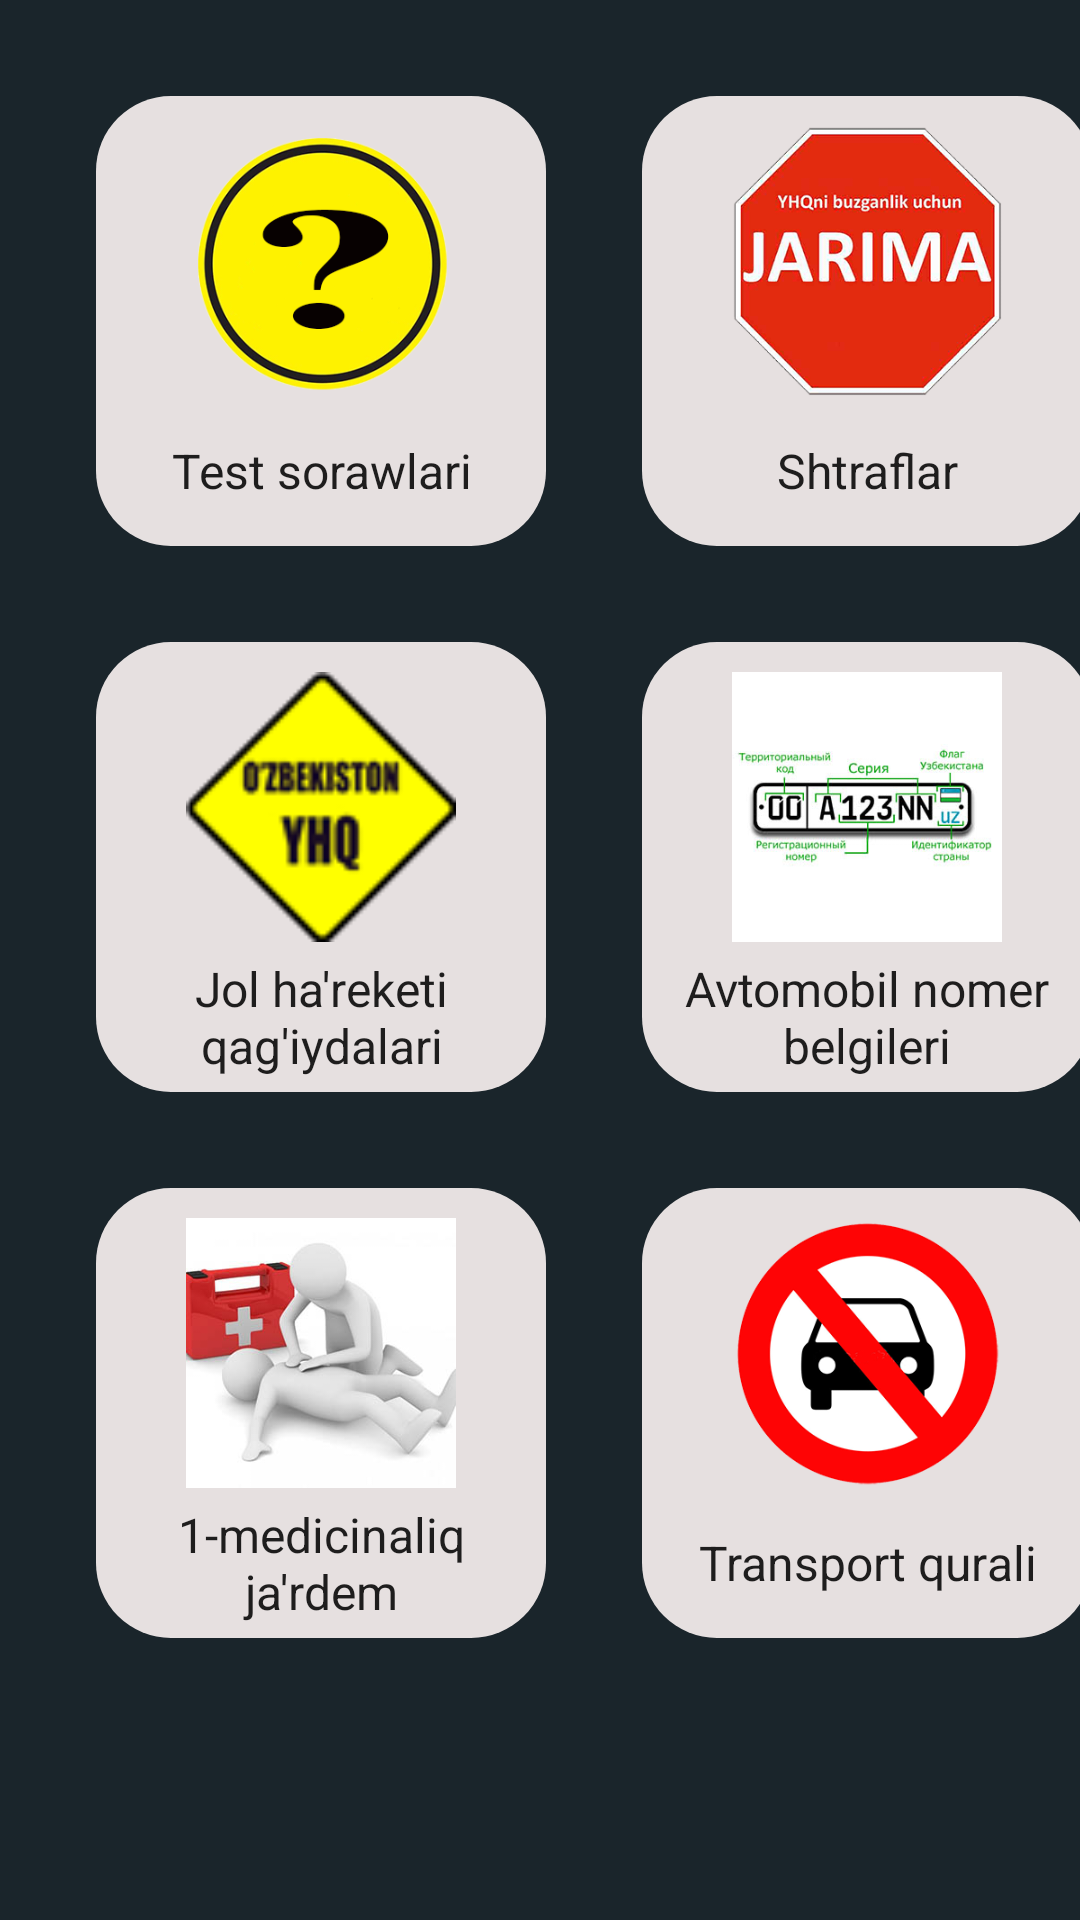

Icon click points for this 1080x1920 phone screenshot, format point (x, y):
chorraha main taqiqlovchi: point (868, 1354)
